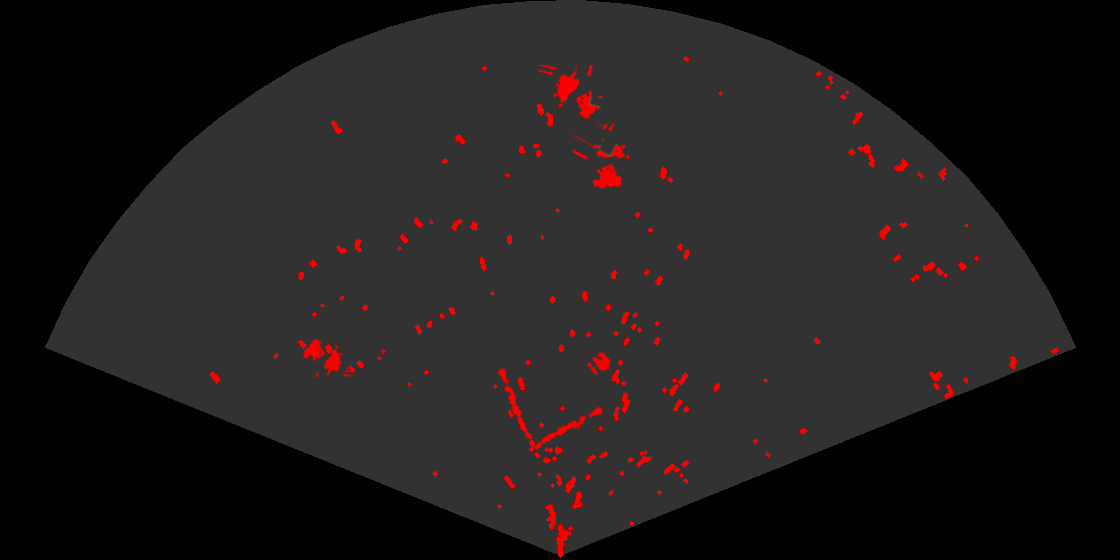ball: (585, 350, 612, 377)
cage: (573, 124, 632, 190), (539, 65, 604, 121), (301, 337, 351, 377)
chain: (533, 404, 607, 451), (496, 365, 534, 441)
